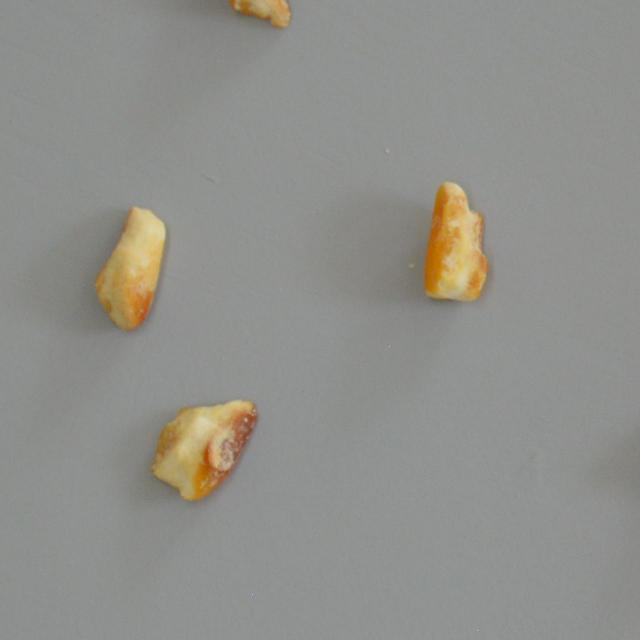dañado: (146, 389, 264, 506), (88, 199, 168, 335), (418, 174, 496, 304), (202, 0, 296, 37)
